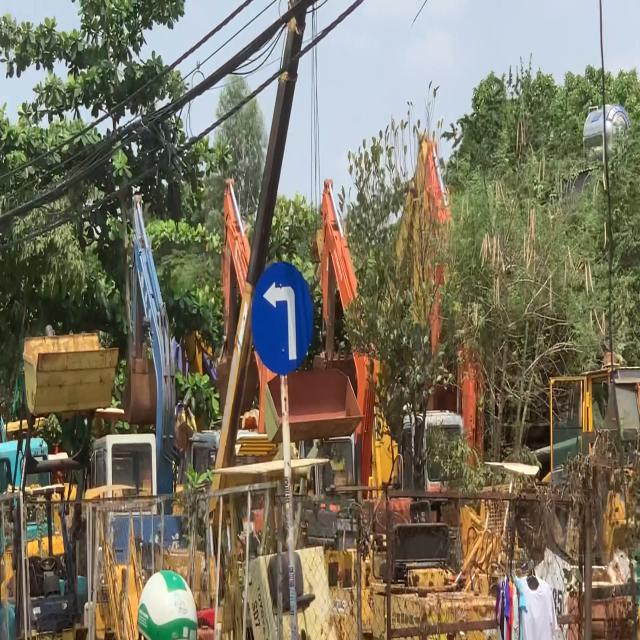Re trai: (250, 262, 314, 375)
